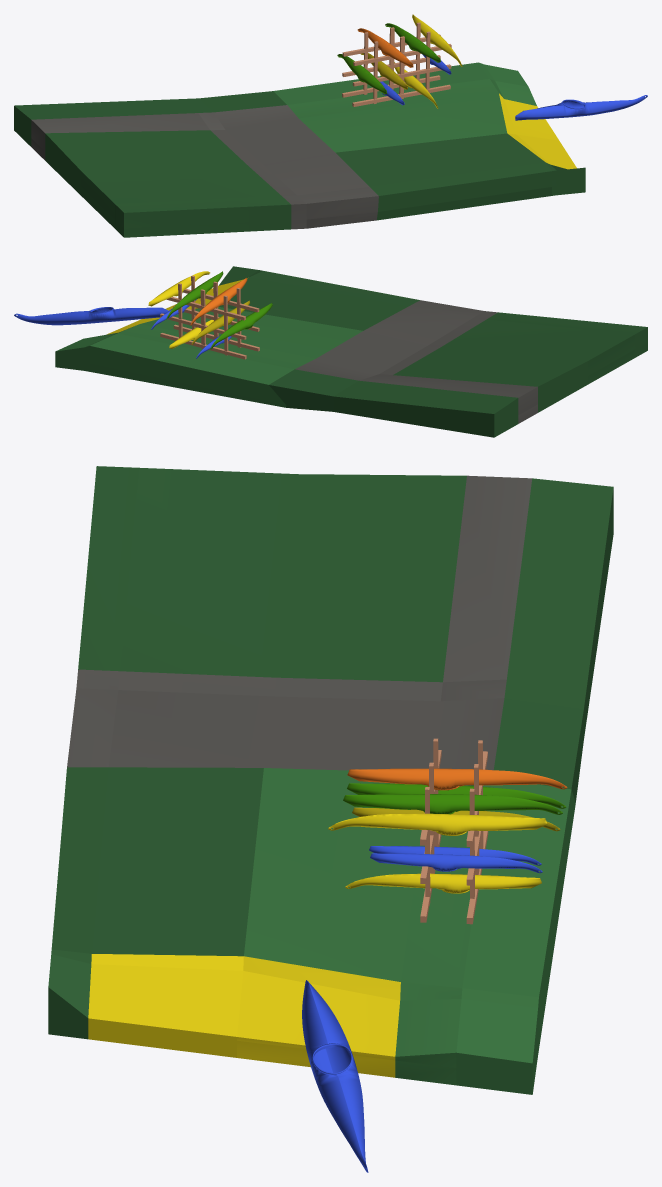
The model's file is intlittlemagothylpark.glb.
3 views of the same model, one above another, from view 1: azimuth 30°, elevation 25°; view 2: azimuth 150°, elevation 25°; view 3: azimuth 270°, elevation 25° (orthographic). The views are drawn at different scales.
Visible parts, largest first — view 1: little_magothy_park_grass, little_magothy_kayak_rack, little_magothy_kayak_rack.001; view 2: little_magothy_park_grass, little_magothy_kayak_rack, little_magothy_kayak_rack.001; view 3: little_magothy_park_grass, little_magothy_kayak_rack, little_magothy_kayak_rack.001.
Part boxes in pixels (x1,y1,x2,y2): little_magothy_park_grass: (14, 62, 585, 237); little_magothy_kayak_rack: (337, 14, 462, 108); little_magothy_kayak_rack.001: (515, 95, 647, 120); little_magothy_park_grass: (55, 266, 647, 437); little_magothy_kayak_rack: (148, 271, 272, 359); little_magothy_kayak_rack.001: (14, 307, 168, 325); little_magothy_park_grass: (48, 466, 613, 1094); little_magothy_kayak_rack: (328, 738, 567, 924); little_magothy_kayak_rack.001: (302, 980, 368, 1172).
Size of the model in its own units: 0.2094 by 0.0363 by 0.0905.
